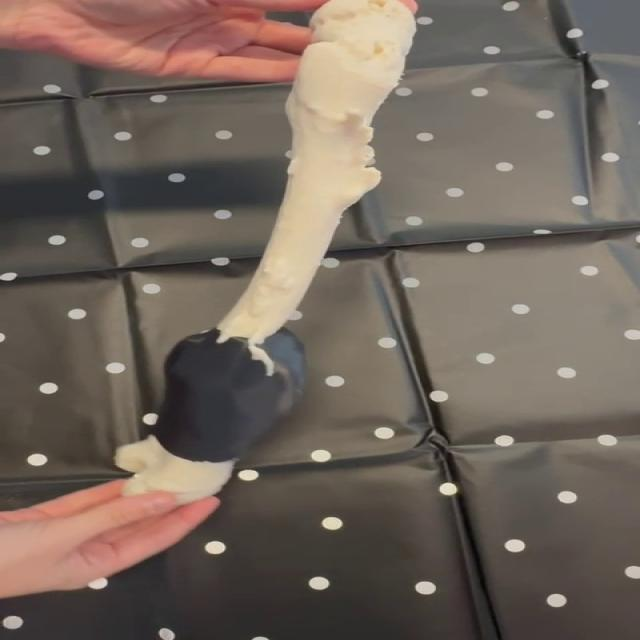bones: (116, 0, 415, 502)
